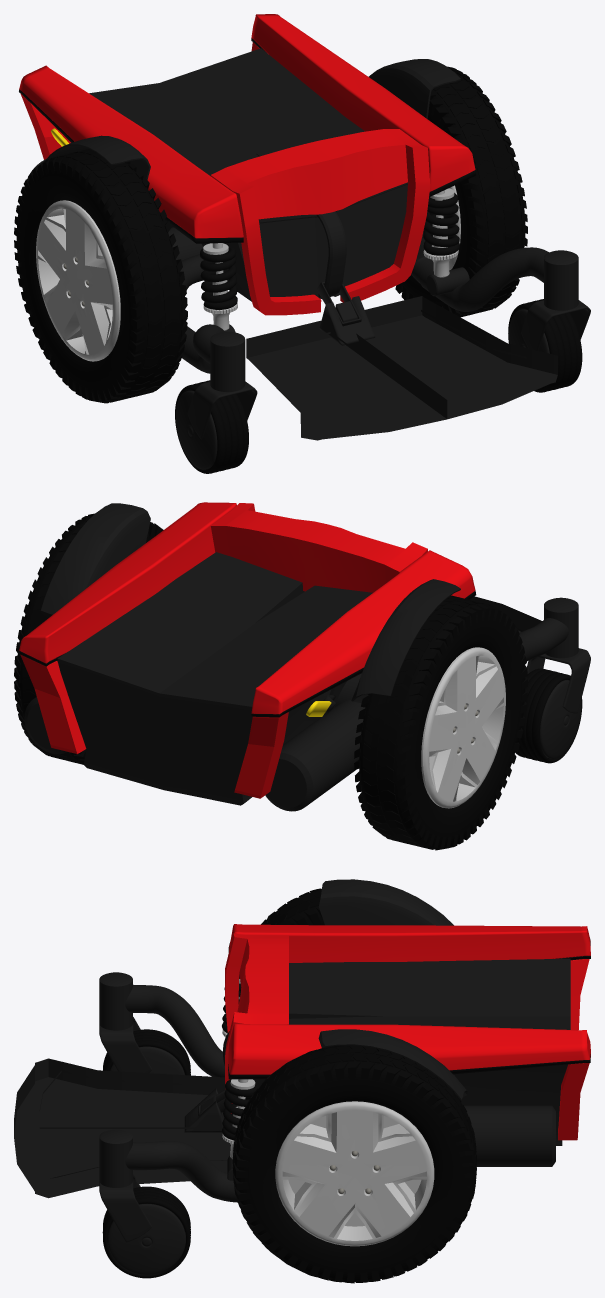
The model's file is PowerChairWheelApplied.fbx.
3 renders of one model, top to bottom at view 1: azimuth 30°, elevation 25°; view 2: azimuth 150°, elevation 25°; view 3: azimuth 270°, elevation 25°, orthographic. The views are drawn at different scales.
Parts seen in each view (by area): view 1: Cube.002, Cube.005, Cube, Tread, Tire, Cube.001, Cube.003, Wheel, Circle.004, Tire.001, Circle.001, Cylinder (+5 smaller); view 2: Cube.002, Cube, Tread, Tire, Cube.001, Tire.001, Wheel, Cylinder.003, Cube.008, Circle.004, Cube.003, Cube.005; view 3: Cube, Cube.002, Tire, Cube.005, Wheel, Cube.003, Tread, Circle.004, Tire.001, Cube.001, Cylinder.003, Cube.008 (+2 smaller).
Boxes of the visible parts, x1,y1,x2,y2 form: Cube.002: [89, 48, 407, 301]; Cube.005: [246, 296, 557, 440]; Cube: [19, 14, 476, 243]; Tread: [14, 66, 527, 403]; Tire: [16, 71, 525, 398]; Cube.001: [210, 129, 430, 315]; Cube.003: [180, 232, 590, 439]; Wheel: [36, 185, 460, 361]; Circle.004: [175, 299, 582, 473]; Tire.001: [45, 59, 460, 179]; Circle.001: [200, 193, 459, 309]; Cylinder: [203, 188, 458, 330]; Cube.002: [57, 552, 372, 805]; Cube: [18, 502, 476, 717]; Tread: [14, 513, 527, 850]; Tire: [16, 516, 525, 848]; Cube.001: [211, 503, 427, 592]; Tire.001: [41, 503, 460, 702]; Wheel: [421, 647, 505, 808]; Cylinder.003: [24, 697, 365, 811]; Cube.008: [20, 654, 288, 798]; Circle.004: [515, 668, 582, 763]; Cube.003: [519, 597, 590, 713]; Cube.005: [470, 596, 541, 632]; Cube: [228, 924, 590, 1079]; Cube.002: [253, 958, 570, 1145]; Tire: [234, 889, 475, 1281]; Cube.005: [14, 1058, 230, 1198]; Wheel: [275, 1101, 434, 1246]; Cube.003: [99, 972, 237, 1242]; Tread: [232, 888, 476, 1283]; Circle.004: [102, 1029, 190, 1278]; Tire.001: [318, 879, 467, 1099]; Cube.001: [225, 933, 288, 1113]; Cylinder.003: [464, 1105, 555, 1166]; Cube.008: [558, 959, 589, 1140].
Size of the model in its own units: 445 by 263 by 588.
